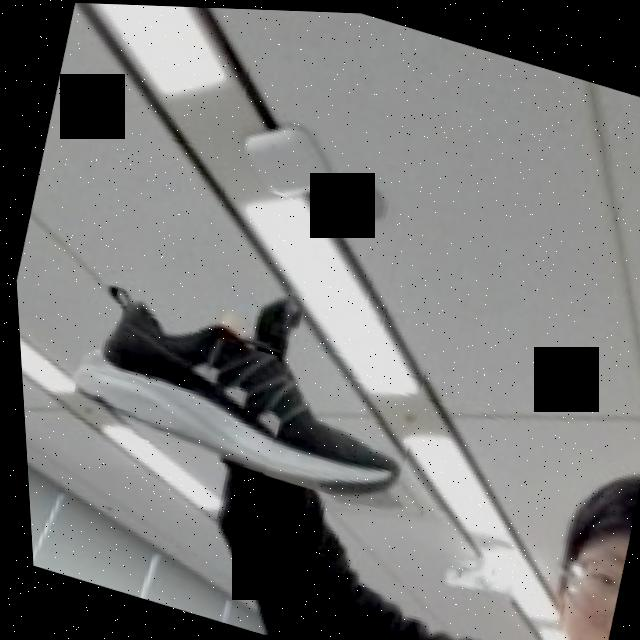shoe: (54, 232, 438, 513)
